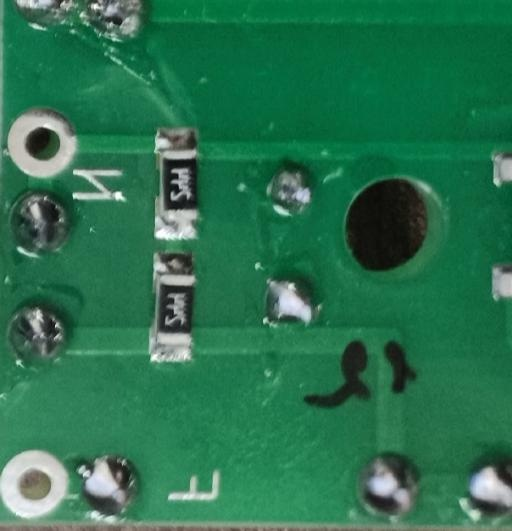chip-resistor: (152, 123, 200, 242), (146, 248, 195, 363)
